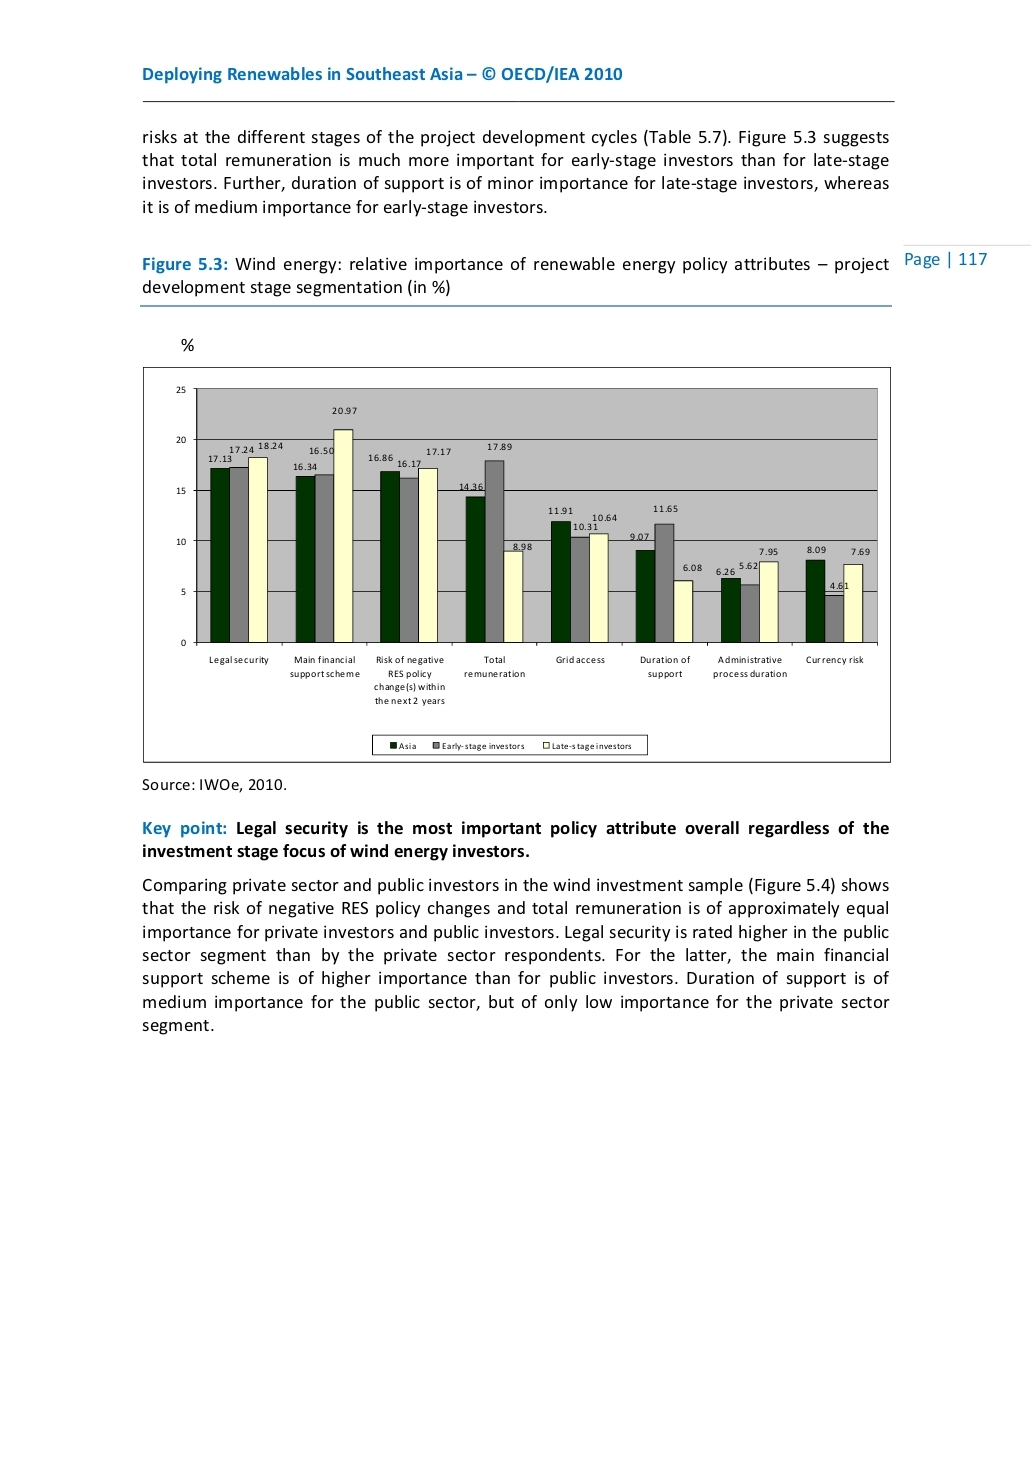figure: (143, 365, 890, 764)
